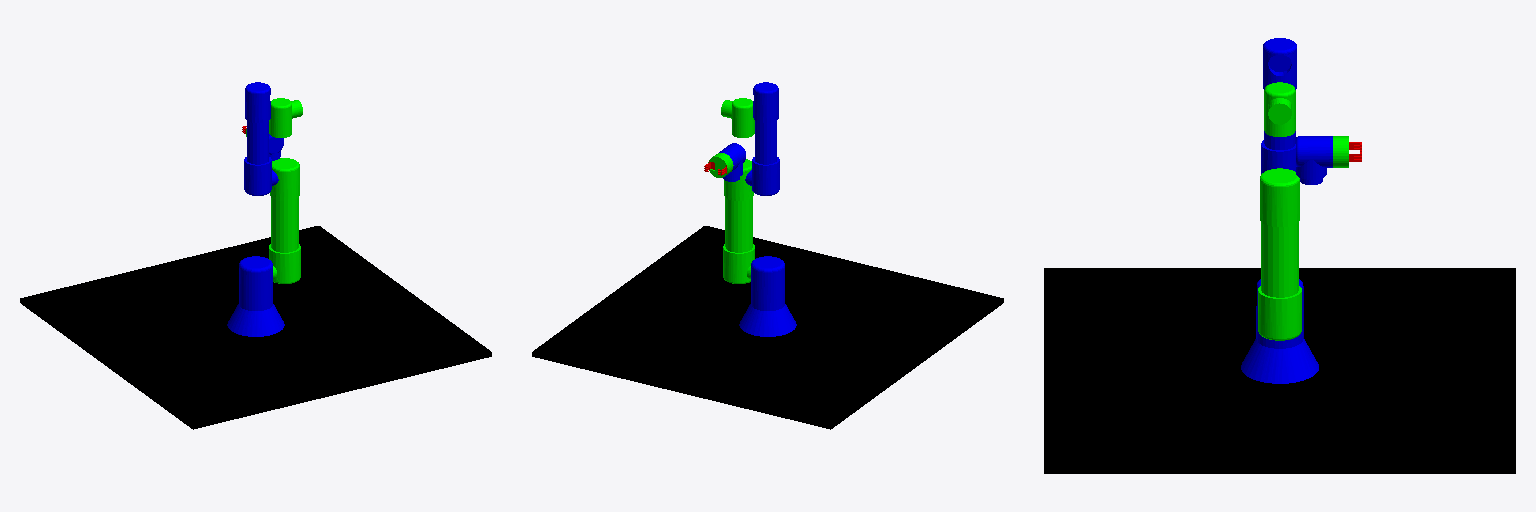
robot.urdf — arm:
<robot
  name="arm">
  <link
    name="base_link">
    <inertial>
      <origin
        xyz="4.6828E-17 0.024867 -2.2438E-16"
        rpy="0 0 0" />
      <mass
        value="444.11" />
      <inertia
        ixx="337.5"
        ixy="3.3871E-16"
        ixz="-3.6082E-14"
        iyy="674.82"
        iyz="1.3219E-17"
        izz="337.5" />
    </inertial>
    <visual>
      <origin
        xyz="0 0 0"
        rpy="0 0 0" />
      <geometry>
        <mesh
          filename="package://marm_description/meshes/base_link.STL" />
      </geometry>
      <material
        name="Black">
        <color
          rgba="0 0 0 1" />
      </material>
    </visual>
    <collision>
      <origin
        xyz="0 0 0"
        rpy="0 0 0" />
      <geometry>
        <mesh
          filename="package://marm_description/meshes/base_link.STL" />
      </geometry>
    </collision>
  </link>
  <link
    name="link1">
    <inertial>
      <origin
        xyz="3.491E-07 -0.0028335 -0.01492"
        rpy="0 0 0" />
      <mass
        value="57.966" />
      <inertia
        ixx="2.5483"
        ixy="-9.0628E-07"
        ixz="1.5304E-06"
        iyy="2.5639"
        iyz="-0.04354"
        izz="1.0444" />
    </inertial>
    <visual>
      <origin
        xyz="0 0 0"
        rpy="0 0 0" />
      <geometry>
        <mesh
          filename="package://marm_description/meshes/link1.STL" />
      </geometry>
      <material
        name="Blue">
        <color
          rgba="0 0 1 1" />
      </material>
    </visual>
    <collision>
      <origin
        xyz="0 0 0"
        rpy="0 0 0" />
      <geometry>
        <mesh
          filename="package://marm_description/meshes/link1.STL" />
      </geometry>
    </collision>
  </link>
  <joint
    name="joint1"
    type="revolute">
    <origin
      xyz="0 0 0.25"
      rpy="3.1416 6.123E-17 1.5708" />
    <parent
      link="base_link" />
    <child
      link="link1" />
    <axis
      xyz="0 0 -1" />
    <limit
      lower="-3.14"
      upper="3.14"
      effort="300"
      velocity="1" />
    <dynamics
      damping="50"
      friction="1" />
  </joint>
  <link
    name="link2">
    <inertial>
      <origin
        xyz="0.0040645 0.50746 2.9447E-08"
        rpy="0 0 0" />
      <mass
        value="57.425" />
      <inertia
        ixx="6.4378"
        ixy="0.19842"
        ixz="-9.7817E-07"
        iyy="0.53245"
        iyz="3.2831E-07"
        izz="6.4921" />
    </inertial>
    <visual>
      <origin
        xyz="0 0 0"
        rpy="0 0 0" />
      <geometry>
        <mesh
          filename="package://marm_description/meshes/link2.STL" />
      </geometry>
      <material
        name="Green">
        <color
          rgba="0 1 0 1" />
      </material>
    </visual>
    <collision>
      <origin
        xyz="0 0 0"
        rpy="0 0 0" />
      <geometry>
        <mesh
          filename="package://marm_description/meshes/link2.STL" />
      </geometry>
    </collision>
  </link>
  <joint
    name="joint2"
    type="revolute">
    <origin
      xyz="0 0.29 -0.18"
      rpy="-1.5708 0 -1.5708" />
    <parent
      link="link1" />
    <child
      link="link2" />
    <axis
      xyz="1 0 0" />
    <limit
      lower="-2.35"
      upper="2.35"
      effort="300"
      velocity="1" />
    <dynamics
      damping="50"
      friction="1" />
  </joint>
  <link
    name="link3">
    <inertial>
      <origin
        xyz="0.0062688 0.45093 -5.9347E-09"
        rpy="0 0 0" />
      <mass
        value="38.36" />
      <inertia
        ixx="3.5596"
        ixy="0.1423"
        ixz="-1.094E-06"
        iyy="0.27636"
        iyz="2.6943E-07"
        izz="3.6045" />
    </inertial>
    <visual>
      <origin
        xyz="0 0 0"
        rpy="0 0 0" />
      <geometry>
        <mesh
          filename="package://marm_description/meshes/link3.STL" />
      </geometry>
      <material
        name="Blue">
        <color
          rgba="0 0 1 1" />
      </material>
    </visual>
    <collision>
      <origin
        xyz="0 0 0"
        rpy="0 0 0" />
      <geometry>
        <mesh
          filename="package://marm_description/meshes/link3.STL" />
      </geometry>
    </collision>
  </link>
  <joint
    name="joint3"
    type="revolute">
    <origin
      xyz="0.27 0.9 0"
      rpy="-3.1416 0 3.1416" />
    <parent
      link="link2" />
    <child
      link="link3" />
    <axis
      xyz="1 0 0" />
    <limit
      lower="-2.62"
      upper="2.62"
      effort="300"
      velocity="1" />
    <dynamics
      damping="50"
      friction="1" />
  </joint>
  <link
    name="link4">
    <inertial>
      <origin
        xyz="8.6704E-09 -0.13203 -0.020954"
        rpy="0 0 0" />
      <mass
        value="10.038" />
      <inertia
        ixx="0.10563"
        ixy="-1.3415E-07"
        ixz="-4.5282E-08"
        iyy="0.071748"
        iyz="0.0067371"
        izz="0.082807" />
    </inertial>
    <visual>
      <origin
        xyz="0 0 0"
        rpy="0 0 0" />
      <geometry>
        <mesh
          filename="package://marm_description/meshes/link4.STL" />
      </geometry>
      <material
        name="Green">
        <color
          rgba="0 1 0 1" />
      </material>
    </visual>
    <collision>
      <origin
        xyz="0 0 0"
        rpy="0 0 0" />
      <geometry>
        <mesh
          filename="package://marm_description/meshes/link4.STL" />
      </geometry>
    </collision>
  </link>
  <joint
    name="joint4"
    type="revolute">
    <origin
      xyz="0.23 0.8 0"
      rpy="0 -1.5708 0" />
    <parent
      link="link3" />
    <child
      link="link4" />
    <axis
      xyz="0 0 -1" />
    <limit
      lower="-2.62"
      upper="2.62"
      effort="300"
      velocity="1" />
    <dynamics
      damping="50"
      friction="1" />
  </joint>
  <link
    name="link5">
    <inertial>
      <origin
        xyz="1.1124E-08 0.10421 0.041487"
        rpy="0 0 0" />
      <mass
        value="9.417" />
      <inertia
        ixx="0.087332"
        ixy="2.1223E-08"
        ixz="-5.3766E-09"
        iyy="0.08101"
        iyz="0.001687"
        izz="0.055716" />
    </inertial>
    <visual>
      <origin
        xyz="0 0 0"
        rpy="0 0 0" />
      <geometry>
        <mesh
          filename="package://marm_description/meshes/link5.STL" />
      </geometry>
      <material
        name="Blue">
        <color
          rgba="0 0 1 1" />
      </material>
    </visual>
    <collision>
      <origin
        xyz="0 0 0"
        rpy="0 0 0" />
      <geometry>
        <mesh
          filename="package://marm_description/meshes/link5.STL" />
      </geometry>
    </collision>
  </link>
  <joint
    name="joint5"
    type="revolute">
    <origin
      xyz="-0.1 -0.45 0"
      rpy="1.5708 -1.5708 0" />
    <parent
      link="link4" />
    <child
      link="link5" />
    <axis
      xyz="0 0 -1" />
    <limit
      lower="-2.62"
      upper="2.62"
      effort="300"
      velocity="1" />
    <dynamics
      damping="50"
      friction="1" />
  </joint>
  <link
    name="link6">
    <inertial>
      <origin
        xyz="-0.0011743 0.077144 0"
        rpy="0 0 0" />
      <mass
        value="3.7469" />
      <inertia
        ixx="0.015466"
        ixy="0.00027657"
        ixz="2.288E-20"
        iyy="0.017439"
        iyz="-3.248E-18"
        izz="0.014407" />
    </inertial>
    <visual>
      <origin
        xyz="0 0 0"
        rpy="0 0 0" />
      <geometry>
        <mesh
          filename="package://marm_description/meshes/link6.STL" />
      </geometry>
      <material
        name="Green">
        <color
          rgba="0 1 0 1" />
      </material>
    </visual>
    <collision>
      <origin
        xyz="0 0 0"
        rpy="0 0 0" />
      <geometry>
        <mesh
          filename="package://marm_description/meshes/link6.STL" />
      </geometry>
    </collision>
  </link>
  <joint
    name="joint6"
    type="revolute">
    <origin
      xyz="0 0.19 0"
      rpy="3.1416 0 3.1416" />
    <parent
      link="link5" />
    <child
      link="link6" />
    <axis
      xyz="0 1 0" />
    <limit
      lower="-6.28"
      upper="6.28"
      effort="300"
      velocity="1" />
    <dynamics
      damping="50"
      friction="1" />
  </joint>
  <link
    name="gripper_finger_link1">
    <inertial>
      <origin
        xyz="-0.0093713 0 -0.02594"
        rpy="0 0 0" />
      <mass
        value="0.1702" />
      <inertia
        ixx="0.00015552"
        ixy="-1.8125E-19"
        ixz="-5.2101E-05"
        iyy="0.00028579"
        iyz="1.2019E-19"
        izz="0.00028702" />
    </inertial>
    <visual>
      <origin
        xyz="0 0 0"
        rpy="0 0 0" />
      <geometry>
        <mesh
          filename="package://marm_description/meshes/gripper_finger_link1.STL" />
      </geometry>
      <material
        name="Red">
        <color
          rgba="1 0 0 1" />
      </material>
    </visual>
    <collision>
      <origin
        xyz="0 0 0"
        rpy="0 0 0" />
      <geometry>
        <mesh
          filename="package://marm_description/meshes/gripper_finger_link1.STL" />
      </geometry>
    </collision>
  </link>
  <joint
    name="finger_joint1"
    type="prismatic">
    <origin
      xyz="0.09 0.15 0"
      rpy="1.5708 0 1.5708" />
    <parent
      link="link6" />
    <child
      link="gripper_finger_link1" />
    <axis
      xyz="0 0 -1" />
    <limit
      lower="0"
      upper="0.05"
      effort="100"
      velocity="1" />
    <dynamics
      damping="50"
      friction="1" />
  </joint>
  <link
    name="gripper_finger_link2">
    <inertial>
      <origin
        xyz="-0.0093713 0 -0.02594"
        rpy="0 0 0" />
      <mass
        value="0.1702" />
      <inertia
        ixx="0.00015552"
        ixy="1.649E-19"
        ixz="-5.2101E-05"
        iyy="0.00028579"
        iyz="6.5356E-20"
        izz="0.00028702" />
    </inertial>
    <visual>
      <origin
        xyz="0 0 0"
        rpy="0 0 0" />
      <geometry>
        <mesh
          filename="package://marm_description/meshes/gripper_finger_link2.STL" />
      </geometry>
      <material
        name="Red">
        <color
          rgba="1 0 0 1" />
      </material>
    </visual>
    <collision>
      <origin
        xyz="0 0 0"
        rpy="0 0 0" />
      <geometry>
        <mesh
          filename="package://marm_description/meshes/gripper_finger_link2.STL" />
      </geometry>
    </collision>
  </link>
  <joint
    name="finger_joint2"
    type="fixed">
    <origin
      xyz="-0.09 0.15 0"
      rpy="-1.5708 0 1.5708" />
    <parent
      link="link6" />
    <child
      link="gripper_finger_link2" />
    <axis
      xyz="0 0 0" />
  </joint>
</robot>

--- Render facts (derived) ---
Views: 3 orthographic renders of the robot side by side, from view 1: azimuth 30°, elevation 25°; view 2: azimuth 150°, elevation 25°; view 3: azimuth 270°, elevation 25°.
Model arm with 9 links and 8 joints (6 revolute, 1 prismatic, 1 fixed), rooted at base_link, posed every joint at zero.
Links seen in each view (by area): view 1: base_link, link2, link1, link3, link4; view 2: base_link, link1, link2, link3, link4, link5; view 3: base_link, link2, link1, link3, link4, link5.
Link boxes in pixels (box(x1,y1,x2,y2)): base_link: box(20, 226, 491, 429); link2: box(269, 158, 300, 283); link1: box(227, 256, 284, 336); link3: box(244, 82, 278, 195); link4: box(269, 98, 302, 137); base_link: box(532, 226, 1003, 429); link1: box(739, 256, 796, 336); link2: box(723, 159, 754, 283); link3: box(745, 82, 779, 195); link4: box(721, 98, 754, 137); link5: box(719, 143, 745, 181); base_link: box(1044, 268, 1515, 473); link2: box(1258, 168, 1301, 340); link1: box(1241, 279, 1318, 383); link3: box(1261, 38, 1296, 173); link4: box(1264, 82, 1295, 136); link5: box(1296, 136, 1332, 184).
Bounding box of the posed robot: 3 × 3 × 2.33 m (x, y, z).
9 mesh visuals loaded from 9 distinct referenced files (9 binary STL).